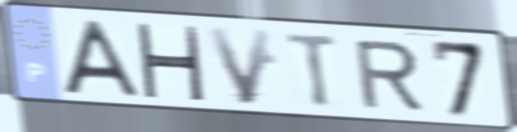7: (430, 37, 487, 120)
A: (59, 17, 145, 101)
H: (132, 20, 207, 104)
R: (351, 38, 427, 112)
T: (283, 30, 341, 110)
V: (202, 24, 276, 108)
